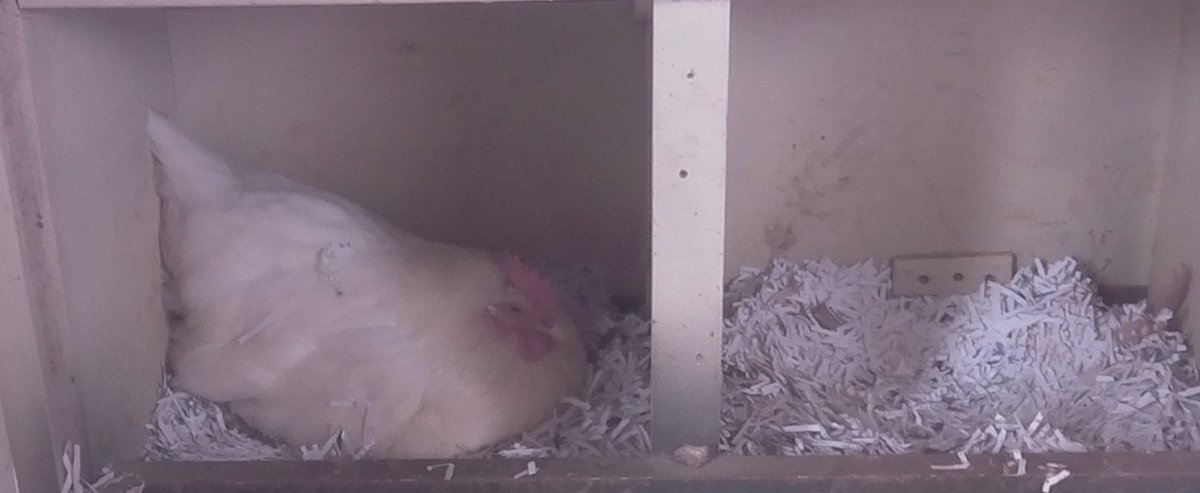hen: (139, 97, 598, 457)
